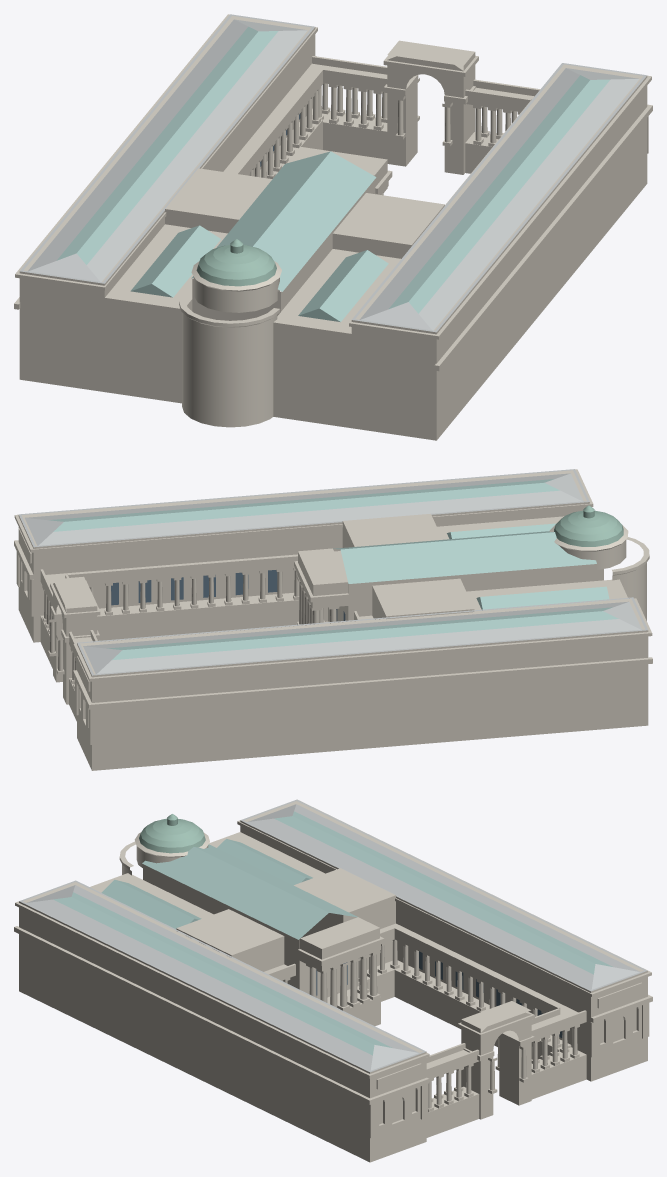
3 renders of one model, top to bottom at view 1: azimuth 30°, elevation 25°; view 2: azimuth 150°, elevation 25°; view 3: azimuth 270°, elevation 25°, orthographic. The views are drawn at different scales.
Visible parts, largest first — view 1: california-palace-of-the-legion-of-honor; view 2: california-palace-of-the-legion-of-honor; view 3: california-palace-of-the-legion-of-honor.
Part boxes in pixels (x1,y1,x2,y2): california-palace-of-the-legion-of-honor: (14,14,652,440); california-palace-of-the-legion-of-honor: (14,469,652,770); california-palace-of-the-legion-of-honor: (14,799,652,1162).
Size of the model in its own units: 107 by 24.2 by 105.
